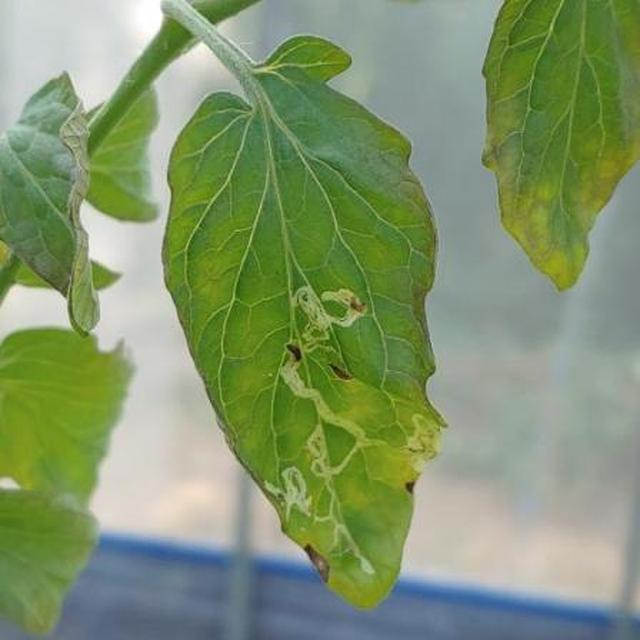Leaf Miner: (229, 141, 640, 640)
